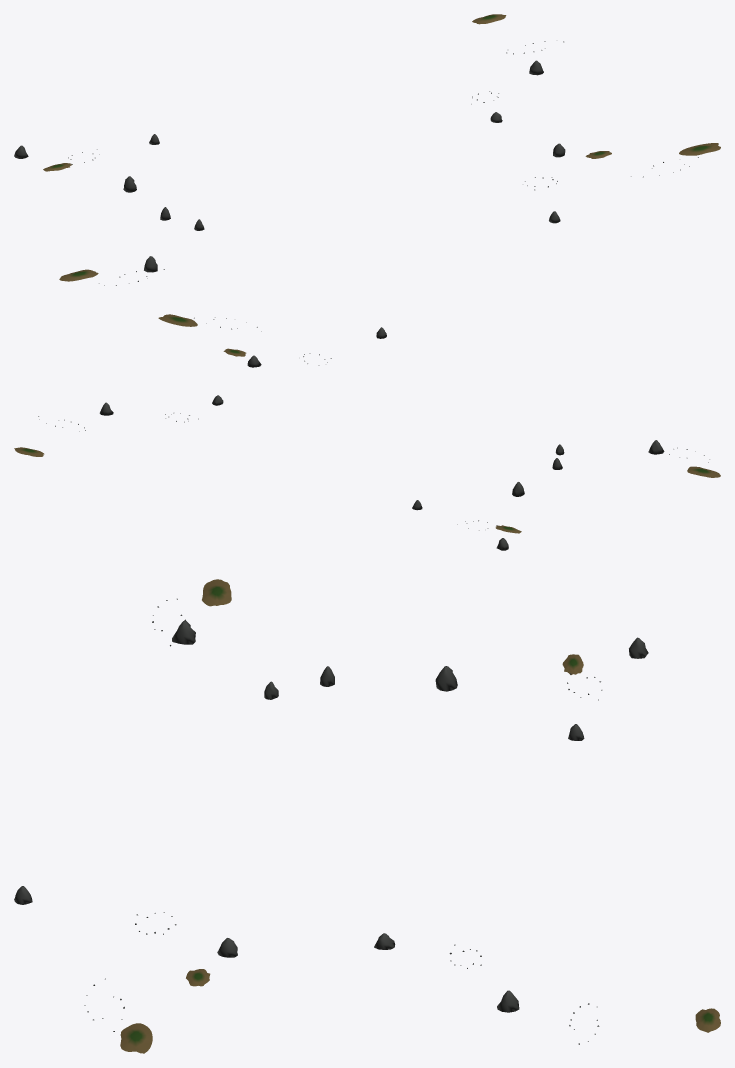
File: demo_map_rocks.obj
3 views of the same model, one above another, from view 1: azimuth 30°, elevation 25°; view 2: azimuth 150°, elevation 25°; view 3: azimuth 270°, elevation 25° (orthographic). The views are drawn at different scales.
Parts seen in each view (by area): view 1: mysterious_island_rocks; view 2: mysterious_island_rocks; view 3: mysterious_island_rocks.
Part boxes in pixels (bbox=[...]): mysterious_island_rocks: bbox=[14, 14, 720, 285]; mysterious_island_rocks: bbox=[14, 314, 720, 550]; mysterious_island_rocks: bbox=[14, 579, 720, 1053].
Size of the model in its own units: 1248 by 26.67 by 786.
